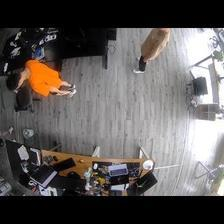normal: (7, 59, 76, 99), (135, 28, 170, 75)
